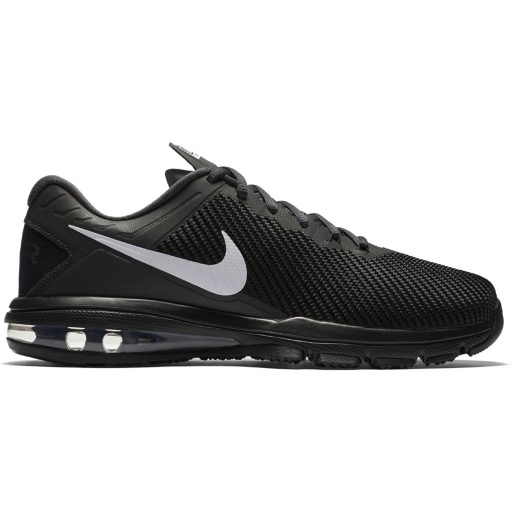nike: (62, 218, 252, 300)
